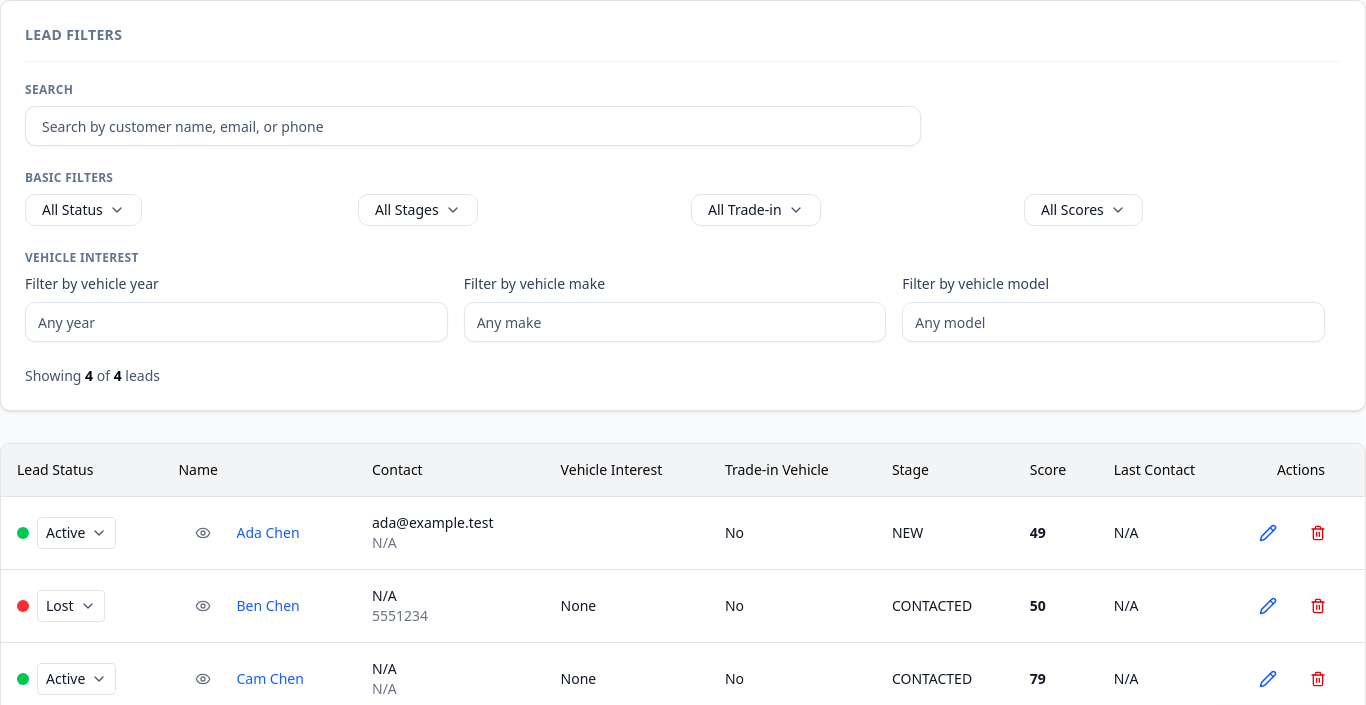
Test: UI-LEAD — filtering and CRUD component integration › UI-LEAD-07: returned status failure rolls back; retry persists the new status
Click the dropdown labelled "Active ▼" next to "Ada Chen" at [77, 533], box [37,517,116,549]
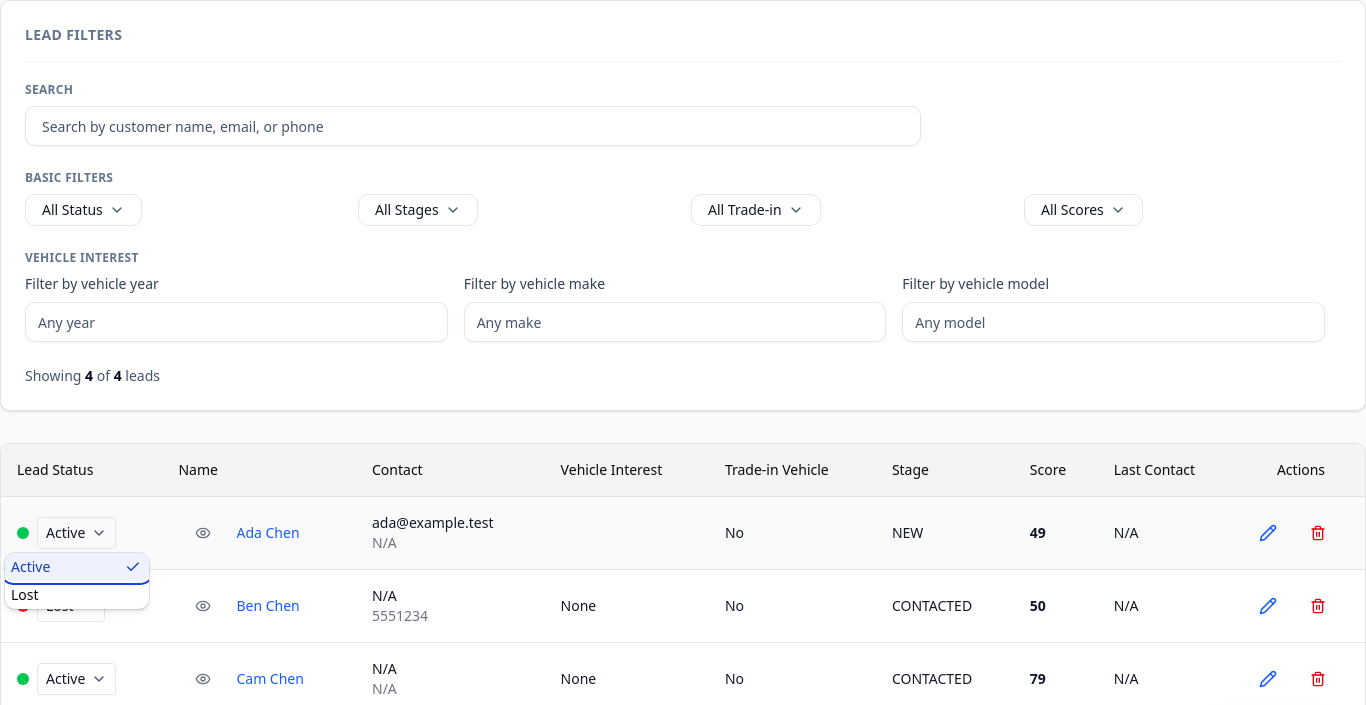
Click the option "Lost" at [25, 594], box [11,585,39,604]
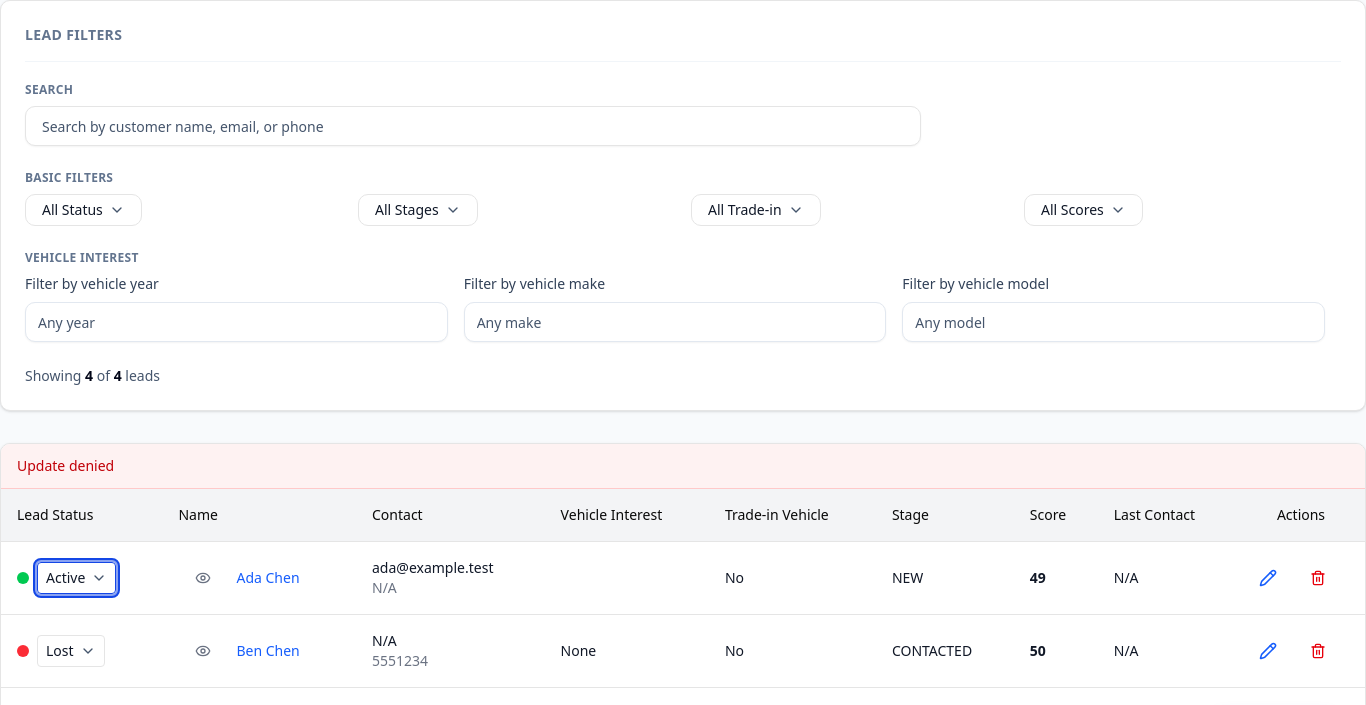
Expected: the text "Update denied" is shown, [1,444,1365,489]
Click the dropdown labelled "Active ▼" next to "Ada Chen" at [77, 578], box [37,562,116,594]
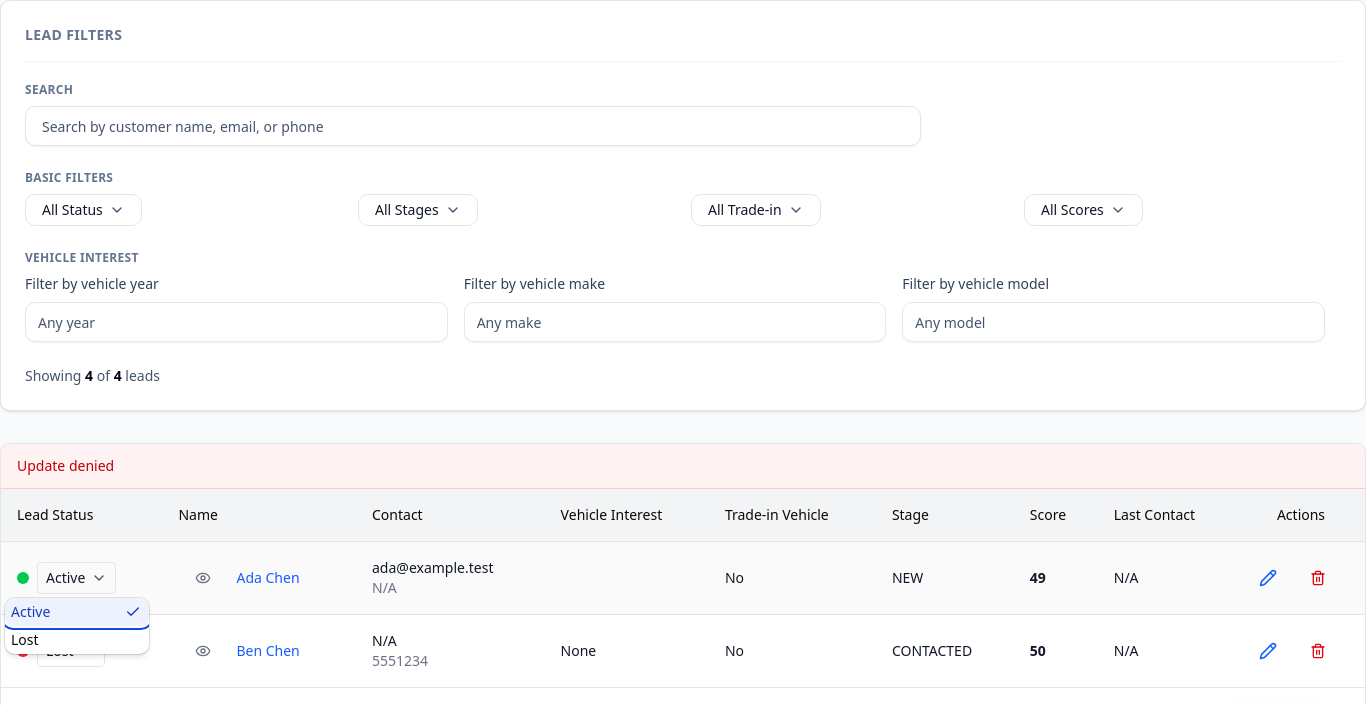
Click the option "Lost" at [25, 640], box [11,630,39,649]
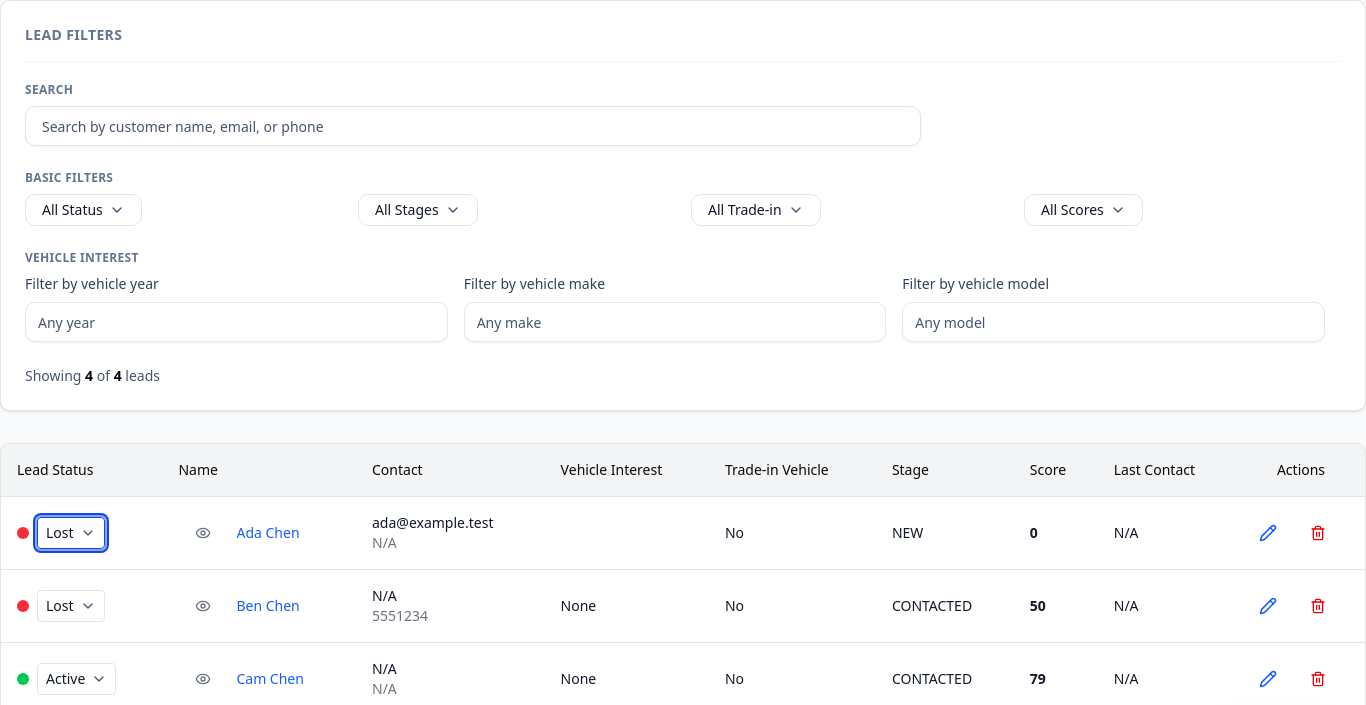
Expected: the dropdown labelled "Lost ▼" next to "Ada Chen" is shown, [37,517,105,549]
Expected: the message "Update denied" is gone
